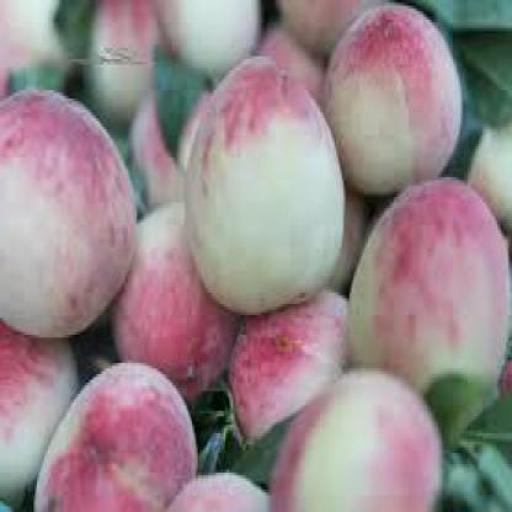biodegradable: (187, 51, 347, 315), (352, 174, 512, 414), (2, 84, 142, 332), (114, 197, 240, 402), (328, 0, 464, 188), (37, 354, 199, 510), (274, 366, 447, 509), (231, 284, 351, 438), (2, 318, 79, 510), (88, 0, 168, 113), (158, 0, 264, 70), (281, 0, 375, 57), (167, 462, 275, 510), (134, 96, 182, 202), (264, 28, 328, 104), (327, 183, 368, 296), (470, 127, 512, 225), (2, 0, 57, 70)
